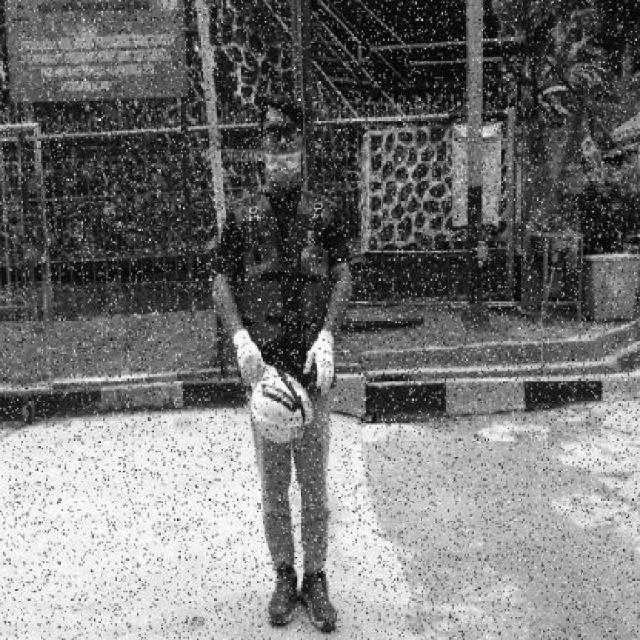Boots: (299, 567, 339, 635), (266, 564, 296, 631)
Gloves: (303, 330, 339, 395), (233, 330, 265, 382)
Helmet: (252, 365, 314, 446)
Mask: (268, 154, 298, 188)
Protective Glasses: (262, 123, 302, 142)
Vest: (241, 248, 328, 347)
